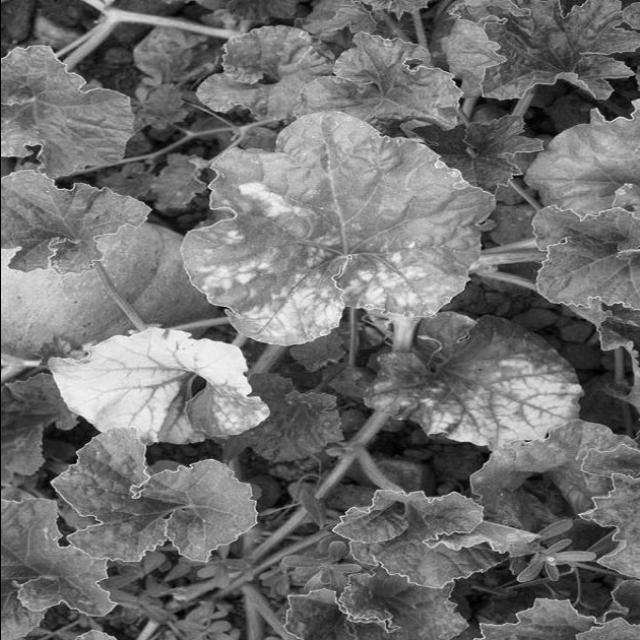Aphids: (180, 164, 464, 352), (46, 321, 267, 444), (371, 334, 583, 453)
